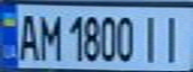0: (115, 11, 139, 63), (100, 11, 118, 63)
1: (63, 11, 84, 62)
8: (81, 11, 103, 62)
A: (12, 10, 42, 61)
I: (160, 11, 190, 64), (139, 11, 166, 64)
M: (36, 10, 63, 62)
